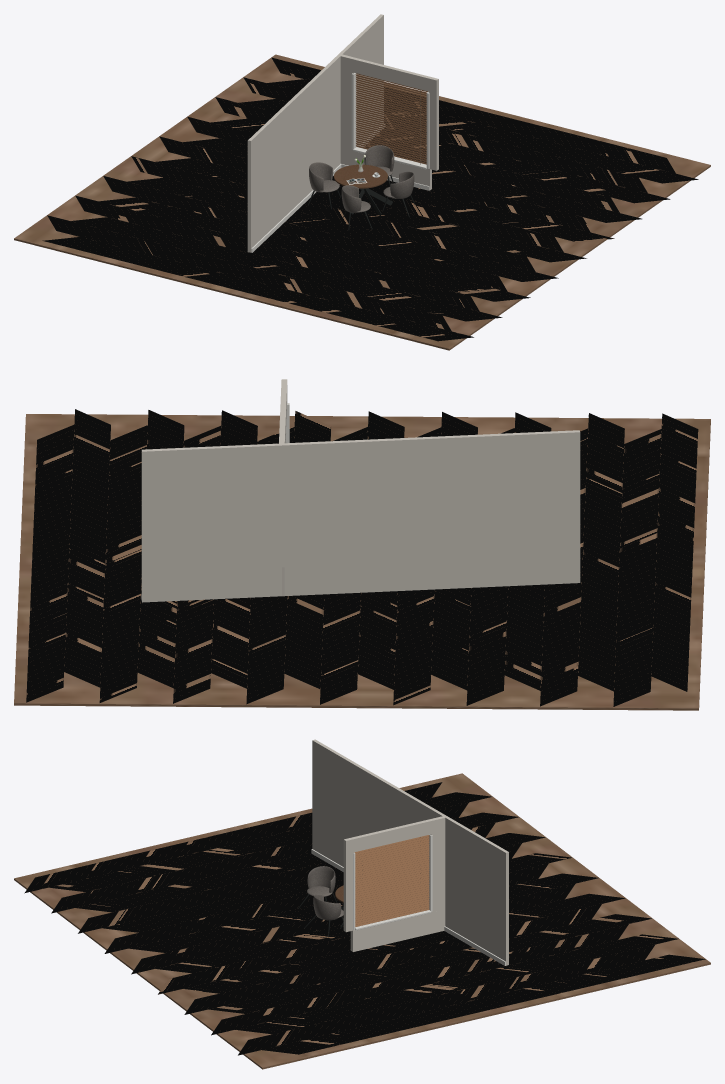
File: codex.glb
The picture shows the model from 3 angles, top to bottom: view 1: azimuth 30°, elevation 25°; view 2: azimuth 150°, elevation 25°; view 3: azimuth 270°, elevation 25°; orthographic projection. The views are drawn at different scales.
Parts seen in each view (by area): view 1: Floor beneath parquet, Back plaster wall, Right lintel, Right back pier, Solid round walnut tabletop, Right front pier, Right wall below sill, Padded continuous wraparound back and arms.001, Padded continuous wraparound back and arms; view 2: Back plaster wall, Floor beneath parquet; view 3: Floor beneath parquet, Back plaster wall, Right wall below sill, Right back pier, Right lintel, Right front pier, Padded continuous wraparound back and arms.002, Back skirting, Padded continuous wraparound back and arms.003.
Boxes of the visible parts, x1,y1,x2,y2 form: Floor beneath parquet: [14, 54, 710, 350]; Back plaster wall: [247, 14, 383, 252]; Right lintel: [353, 58, 430, 91]; Right back pier: [340, 54, 355, 149]; Solid round walnut tabletop: [334, 164, 387, 188]; Right front pier: [428, 77, 438, 170]; Right wall below sill: [340, 146, 431, 190]; Padded continuous wraparound back and arms.001: [364, 145, 394, 171]; Padded continuous wraparound back and arms: [309, 162, 333, 192]; Back plaster wall: [141, 430, 580, 602]; Floor beneath parquet: [14, 414, 710, 710]; Floor beneath parquet: [14, 773, 710, 1069]; Back plaster wall: [312, 739, 508, 965]; Right wall below sill: [350, 909, 445, 951]; Right back pier: [429, 816, 445, 912]; Right lintel: [352, 819, 431, 852]; Right front pier: [343, 837, 354, 932]; Padded continuous wraparound back and arms.002: [307, 866, 335, 892]; Back skirting: [311, 849, 505, 965]; Padded continuous wraparound back and arms.003: [313, 894, 341, 920].
Bounding box in the file's own units: 19.03 × 3.46 × 19.03.
Materials: 979 (966 with a texture image).
